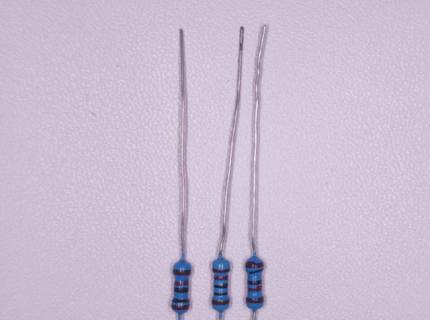Black band: (247, 279, 262, 285), (174, 287, 189, 293), (172, 298, 189, 303), (214, 283, 228, 289), (247, 269, 263, 274), (213, 291, 228, 296)
Brown band: (173, 269, 191, 276), (245, 261, 263, 268), (212, 299, 230, 305), (246, 297, 264, 303), (212, 268, 230, 273), (171, 305, 189, 310)
Red band: (248, 286, 262, 292), (174, 281, 188, 286), (214, 276, 228, 280)
